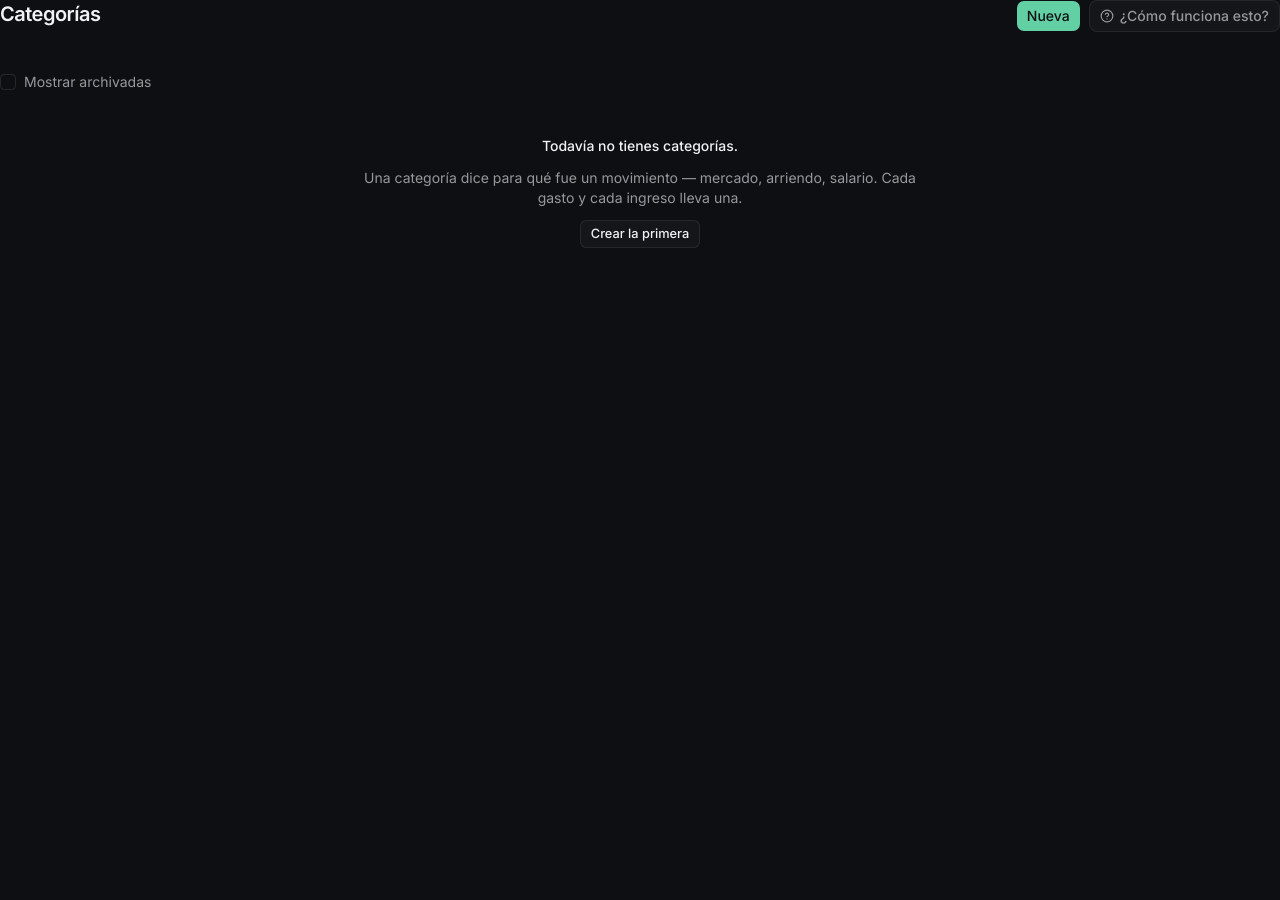
AC-10 — an empty screen teaches and offers the way in › An empty Categorías screen teaches and offers the way in
Expected: the text "Una categoría dice para qué fue un movimiento" is shown, [364, 169, 916, 206]
Click the button "Crear la primera" at {"x": 640, "y": 234}, box [580, 220, 700, 248]
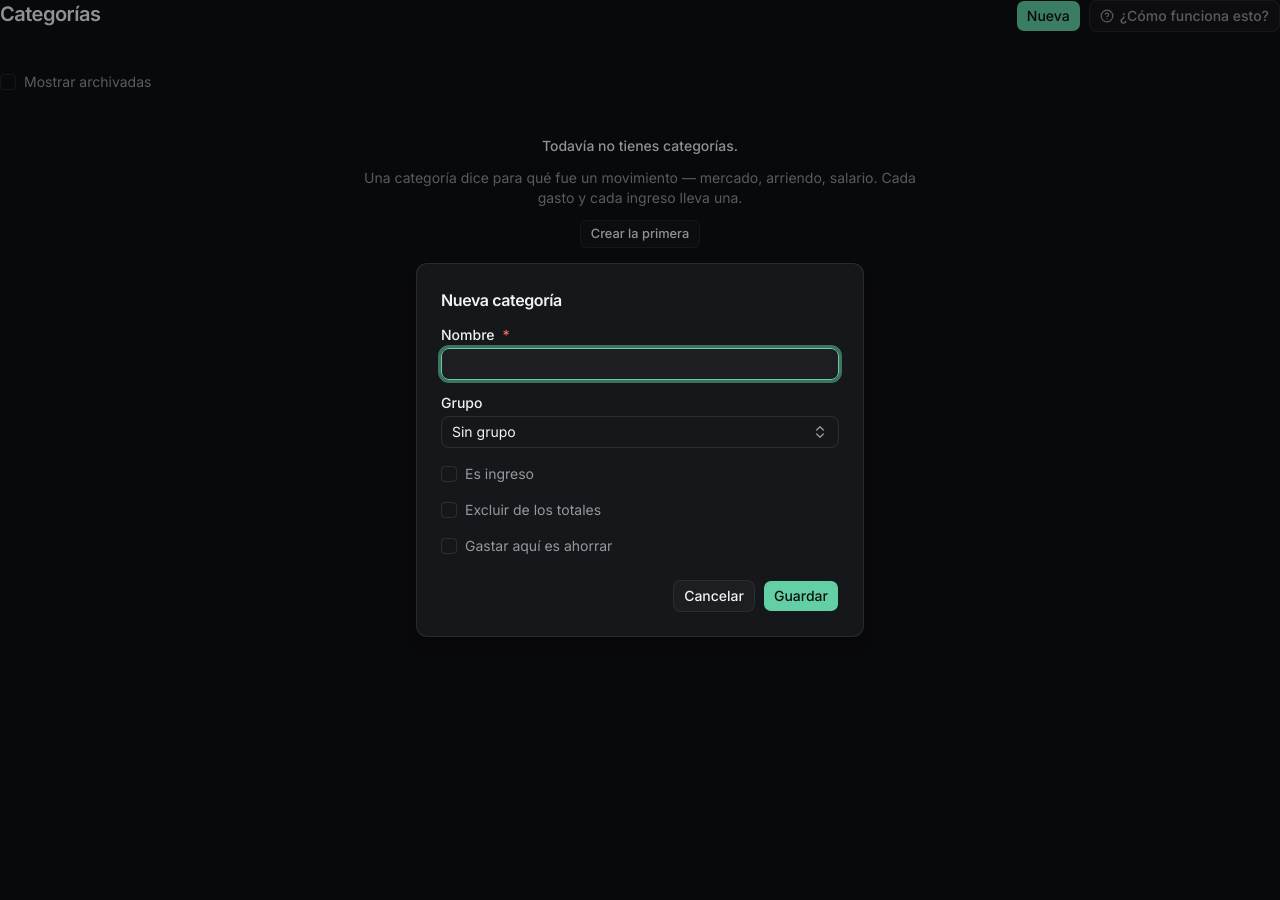
Now the heading "Nueva categoría" is shown, box [441, 290, 562, 310]
